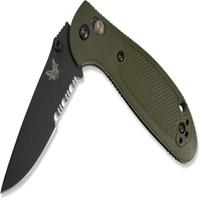knife: (1, 7, 189, 198), (1, 2, 99, 196)
